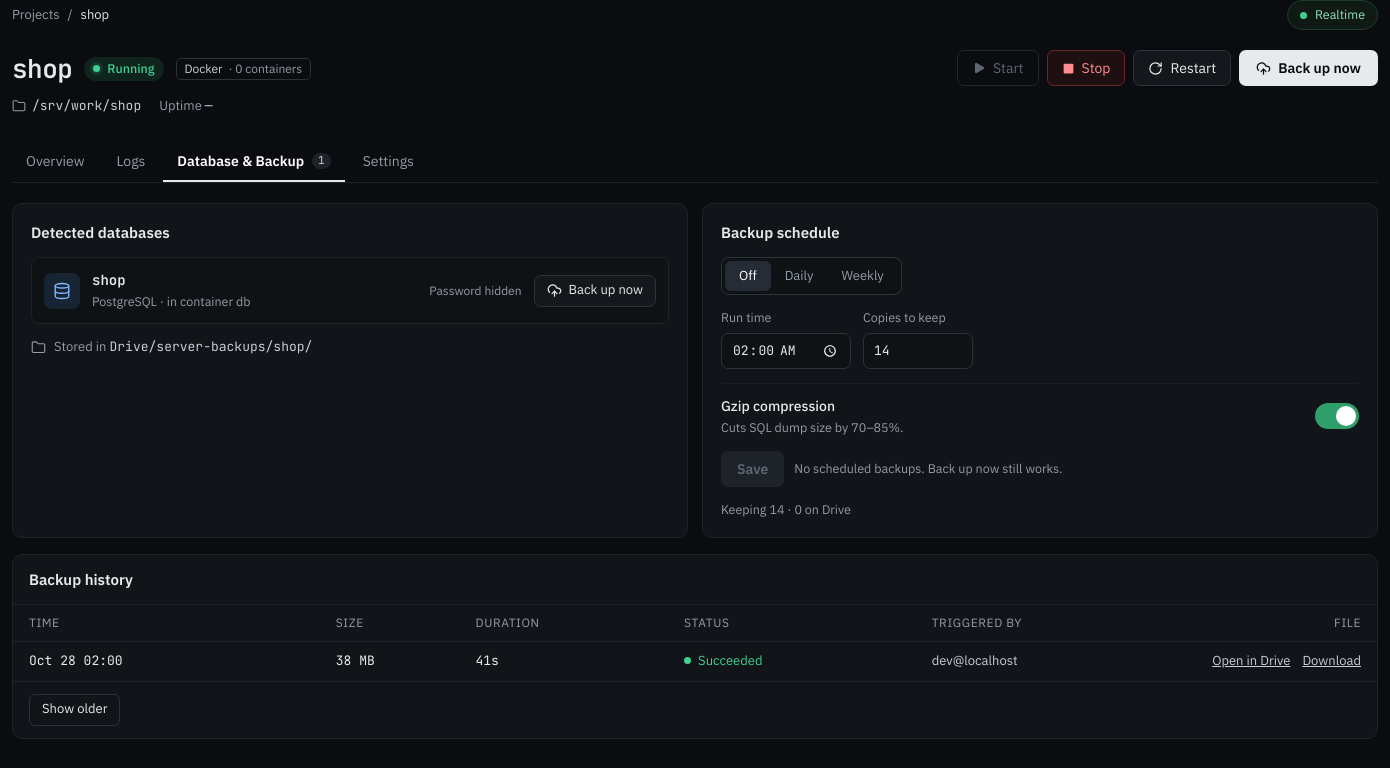
Test case: backup history › says when older backups could not be read, and tries again
Click the button "Show older".
click(75, 710)  # box [29,694,120,726]
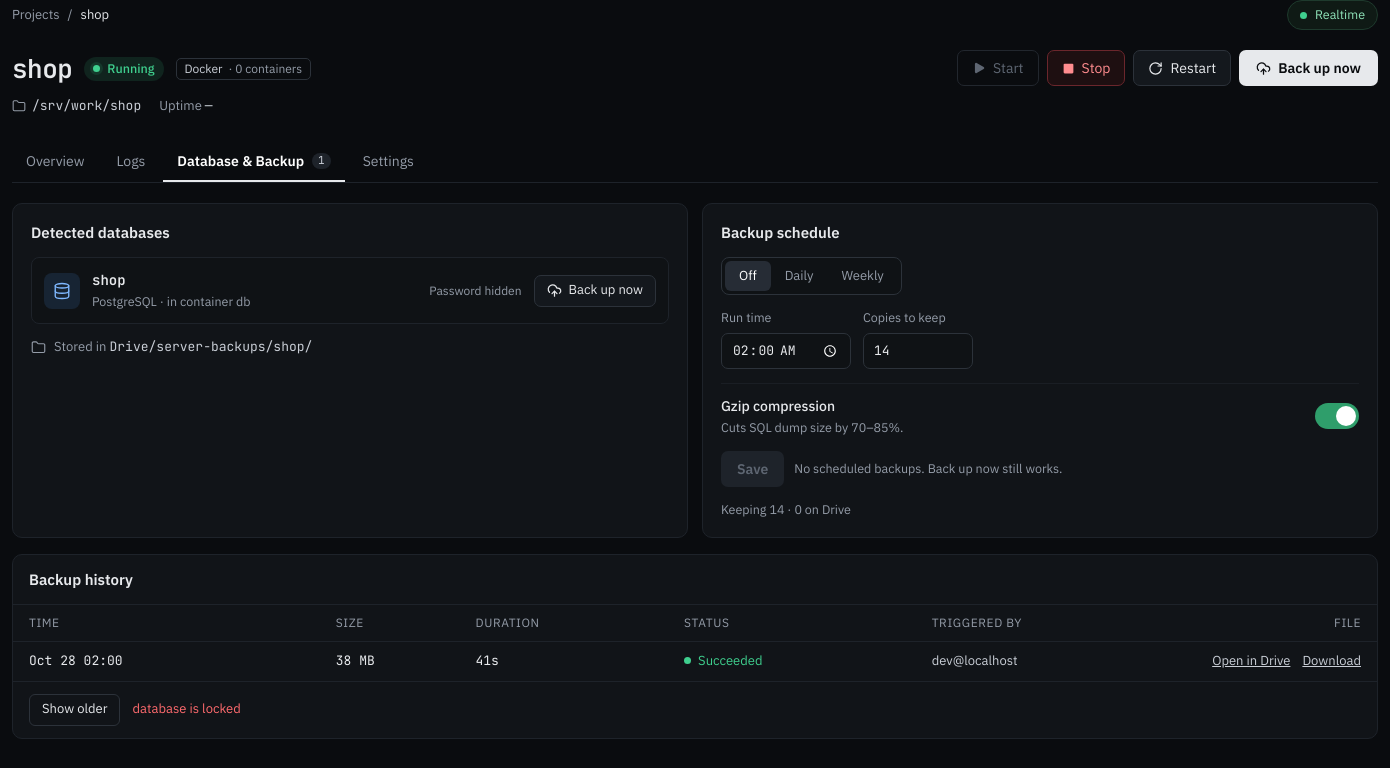
Result: the text "database is locked" is shown at [132,700,241,719]
Click the button "Show older".
click(75, 710)  # box [29,694,120,726]
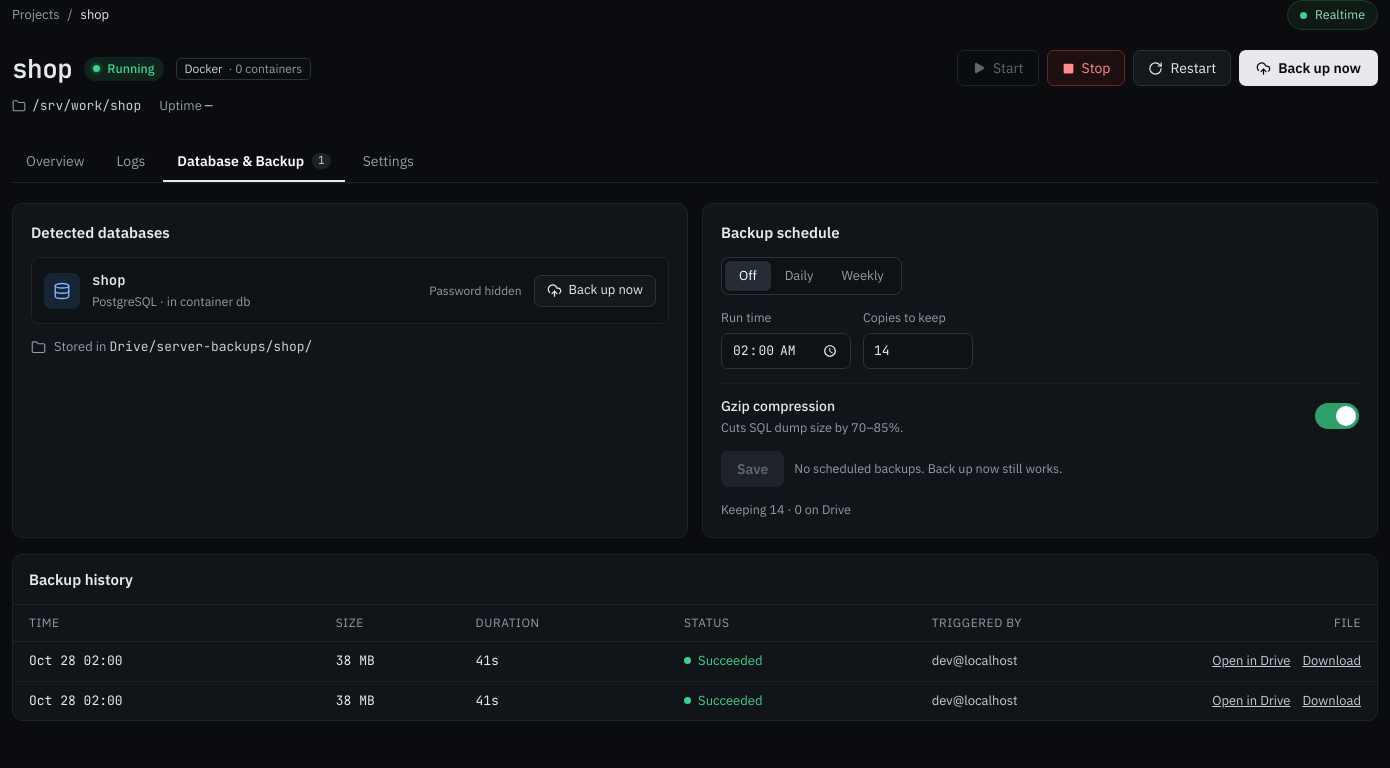
Result: the text "database is locked" is gone
